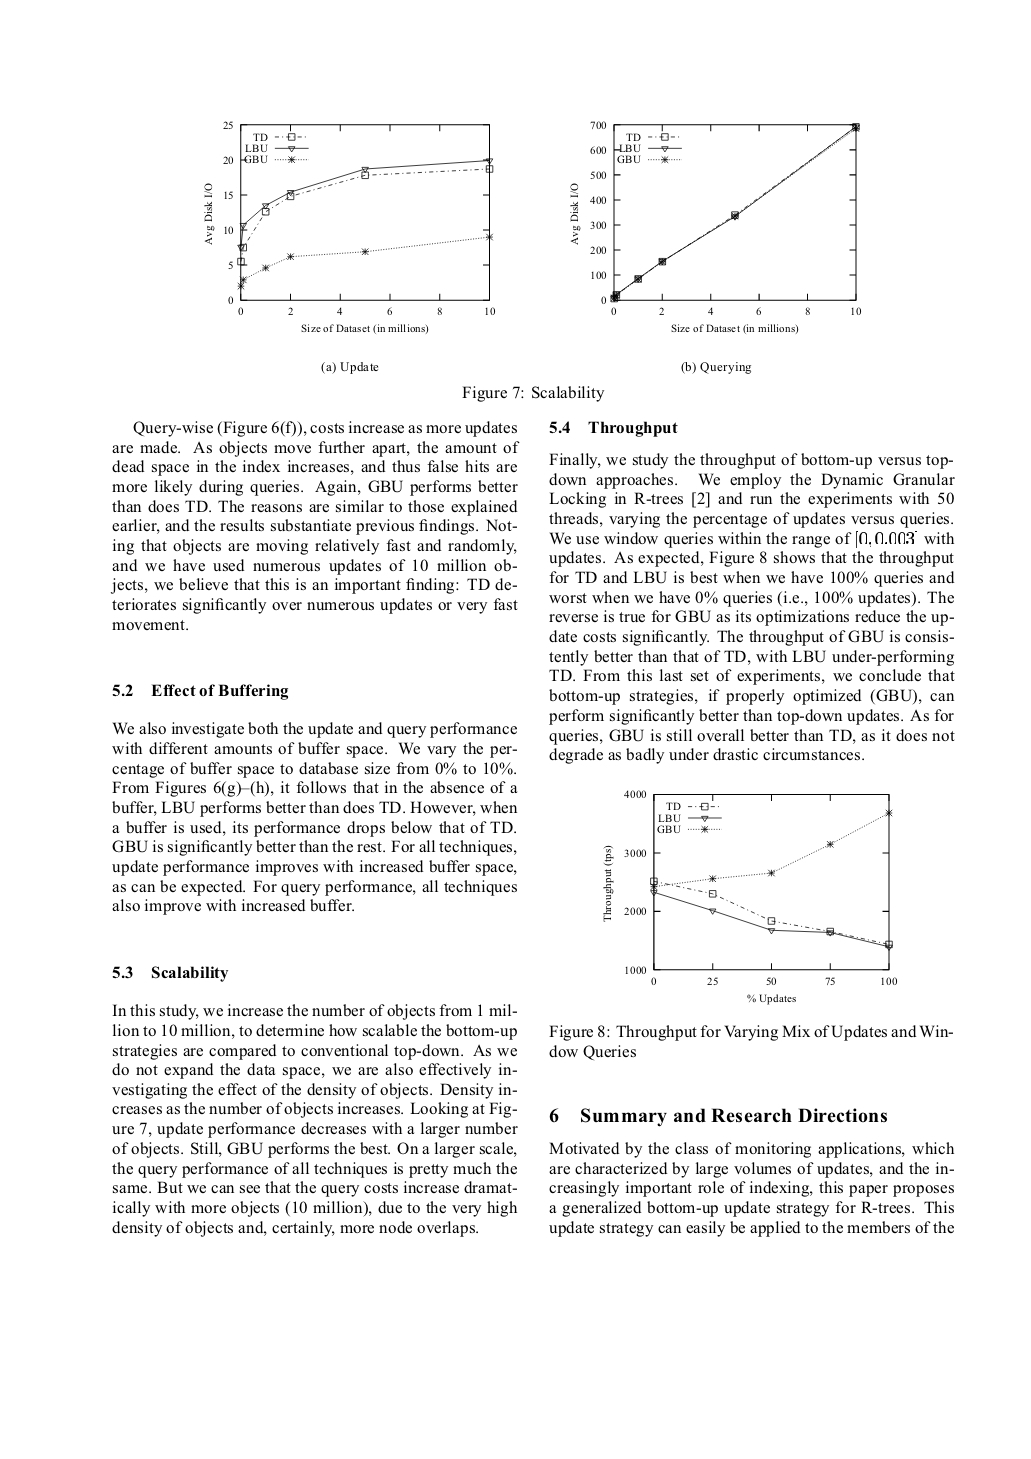figure: (603, 790, 896, 1004), (204, 120, 494, 334), (570, 120, 860, 334)
